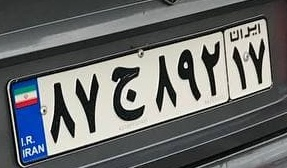character: (110, 63, 148, 122), (46, 79, 76, 143), (75, 72, 104, 134), (152, 51, 178, 114), (175, 48, 202, 106), (200, 38, 226, 98), (246, 37, 267, 86), (230, 44, 249, 93)
